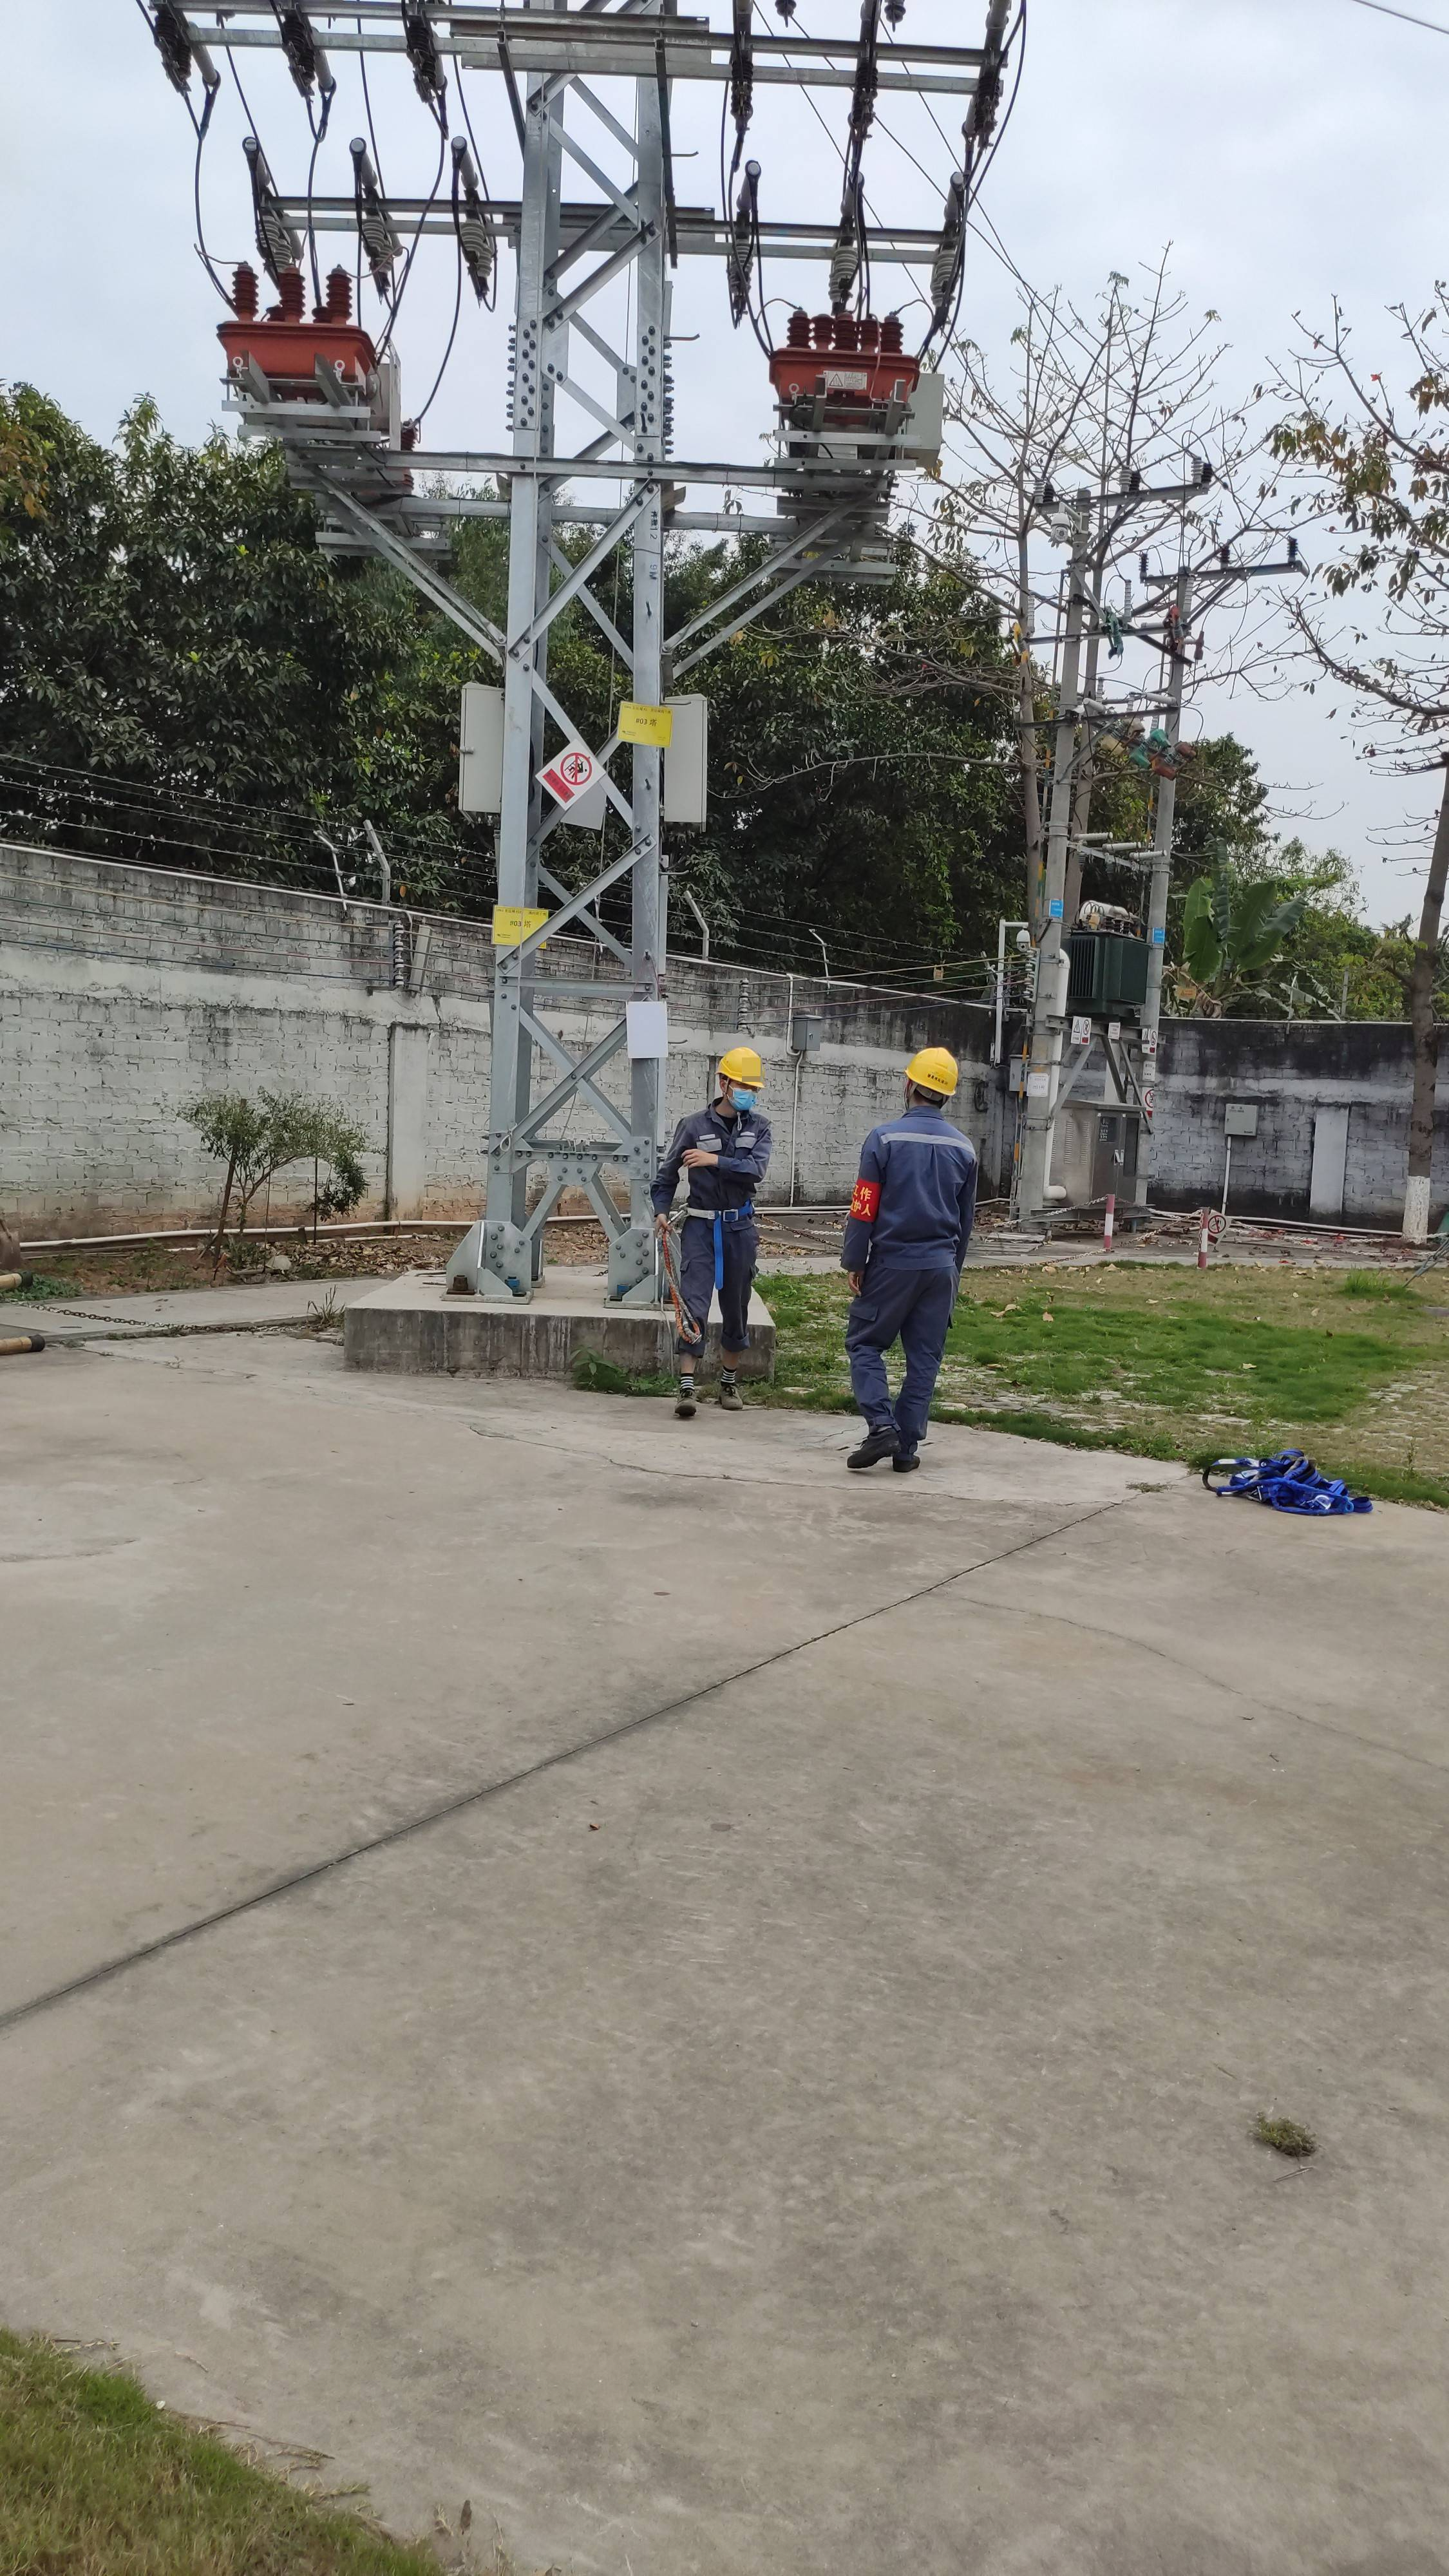downsuit: (860, 1267, 952, 1445), (674, 1226, 755, 1345)
upsuit: (870, 1118, 971, 1249), (672, 1113, 771, 1215)
wrongbottom: (679, 1323, 706, 1380), (725, 1325, 750, 1371)
